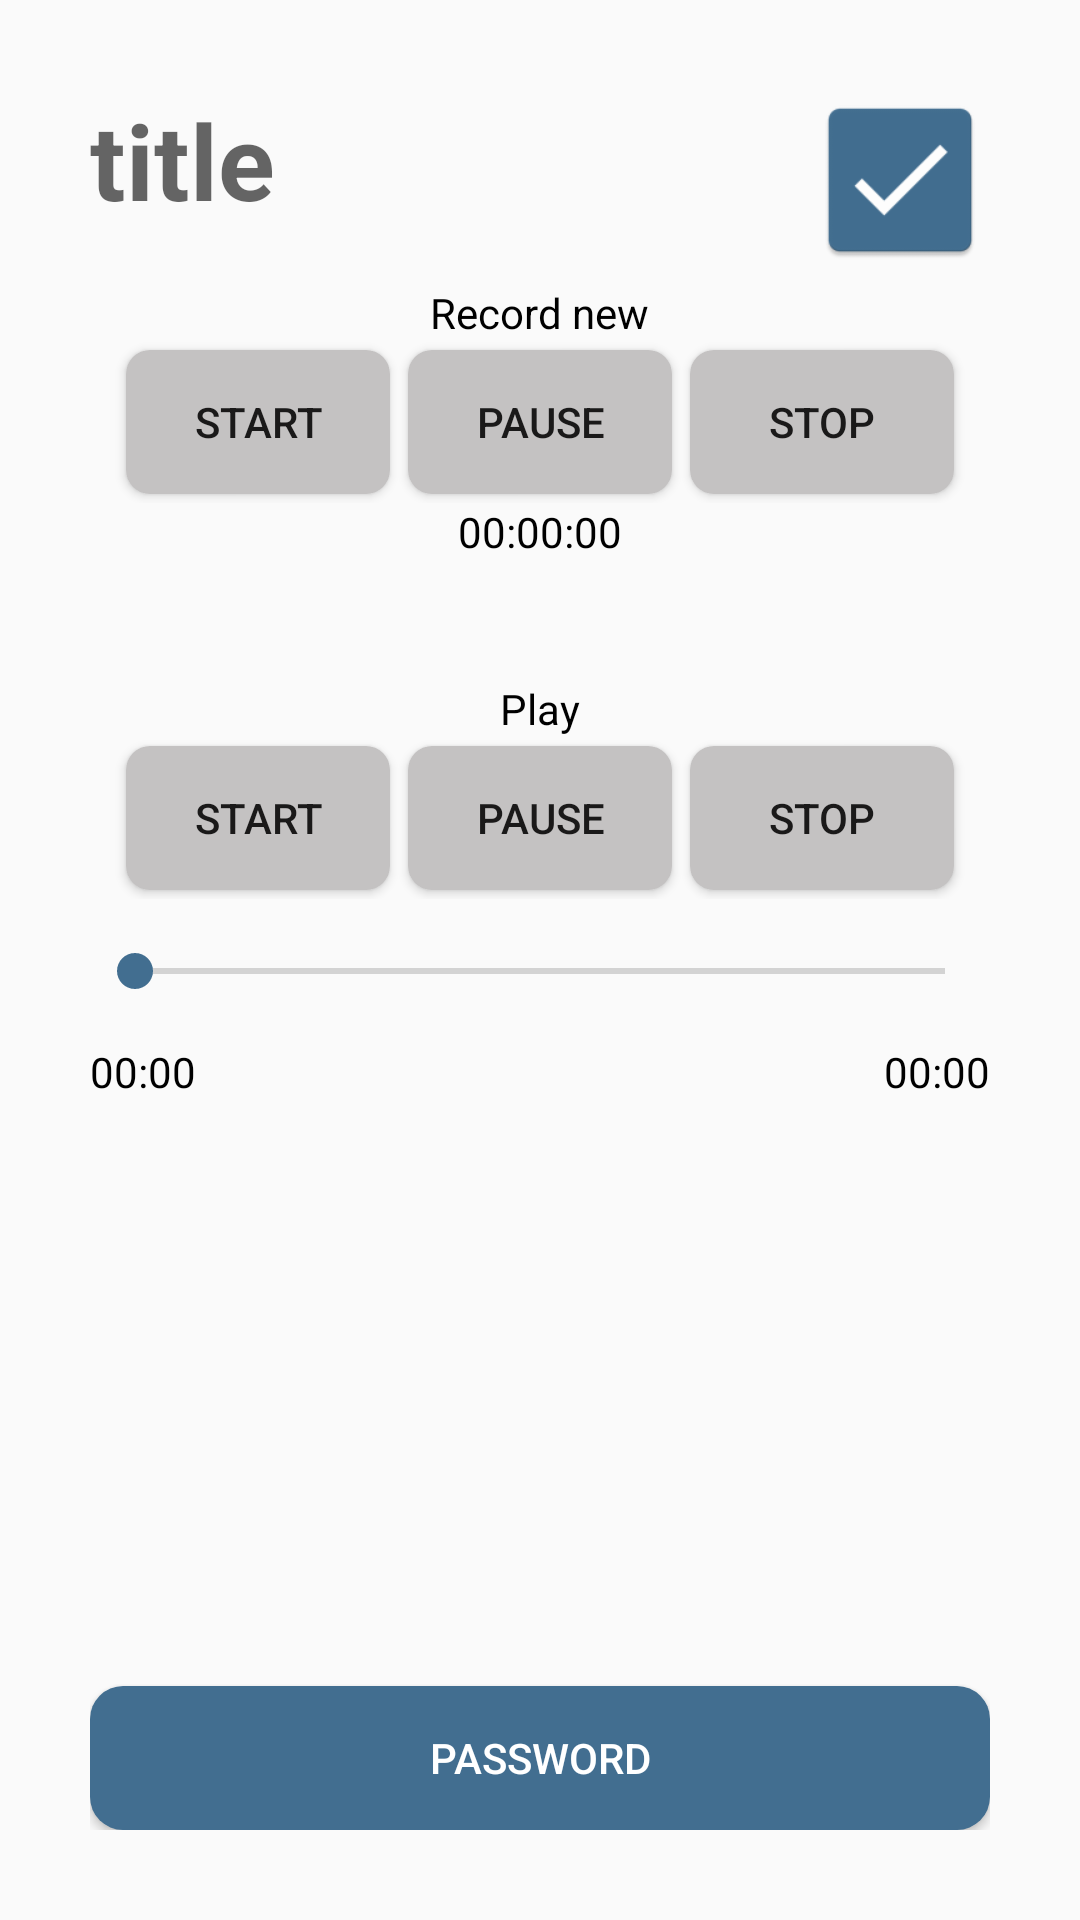

Icon click points for this 1080*1920 phone screenshot, format (x=x, y=y):
savenote: (x=900, y=182)
